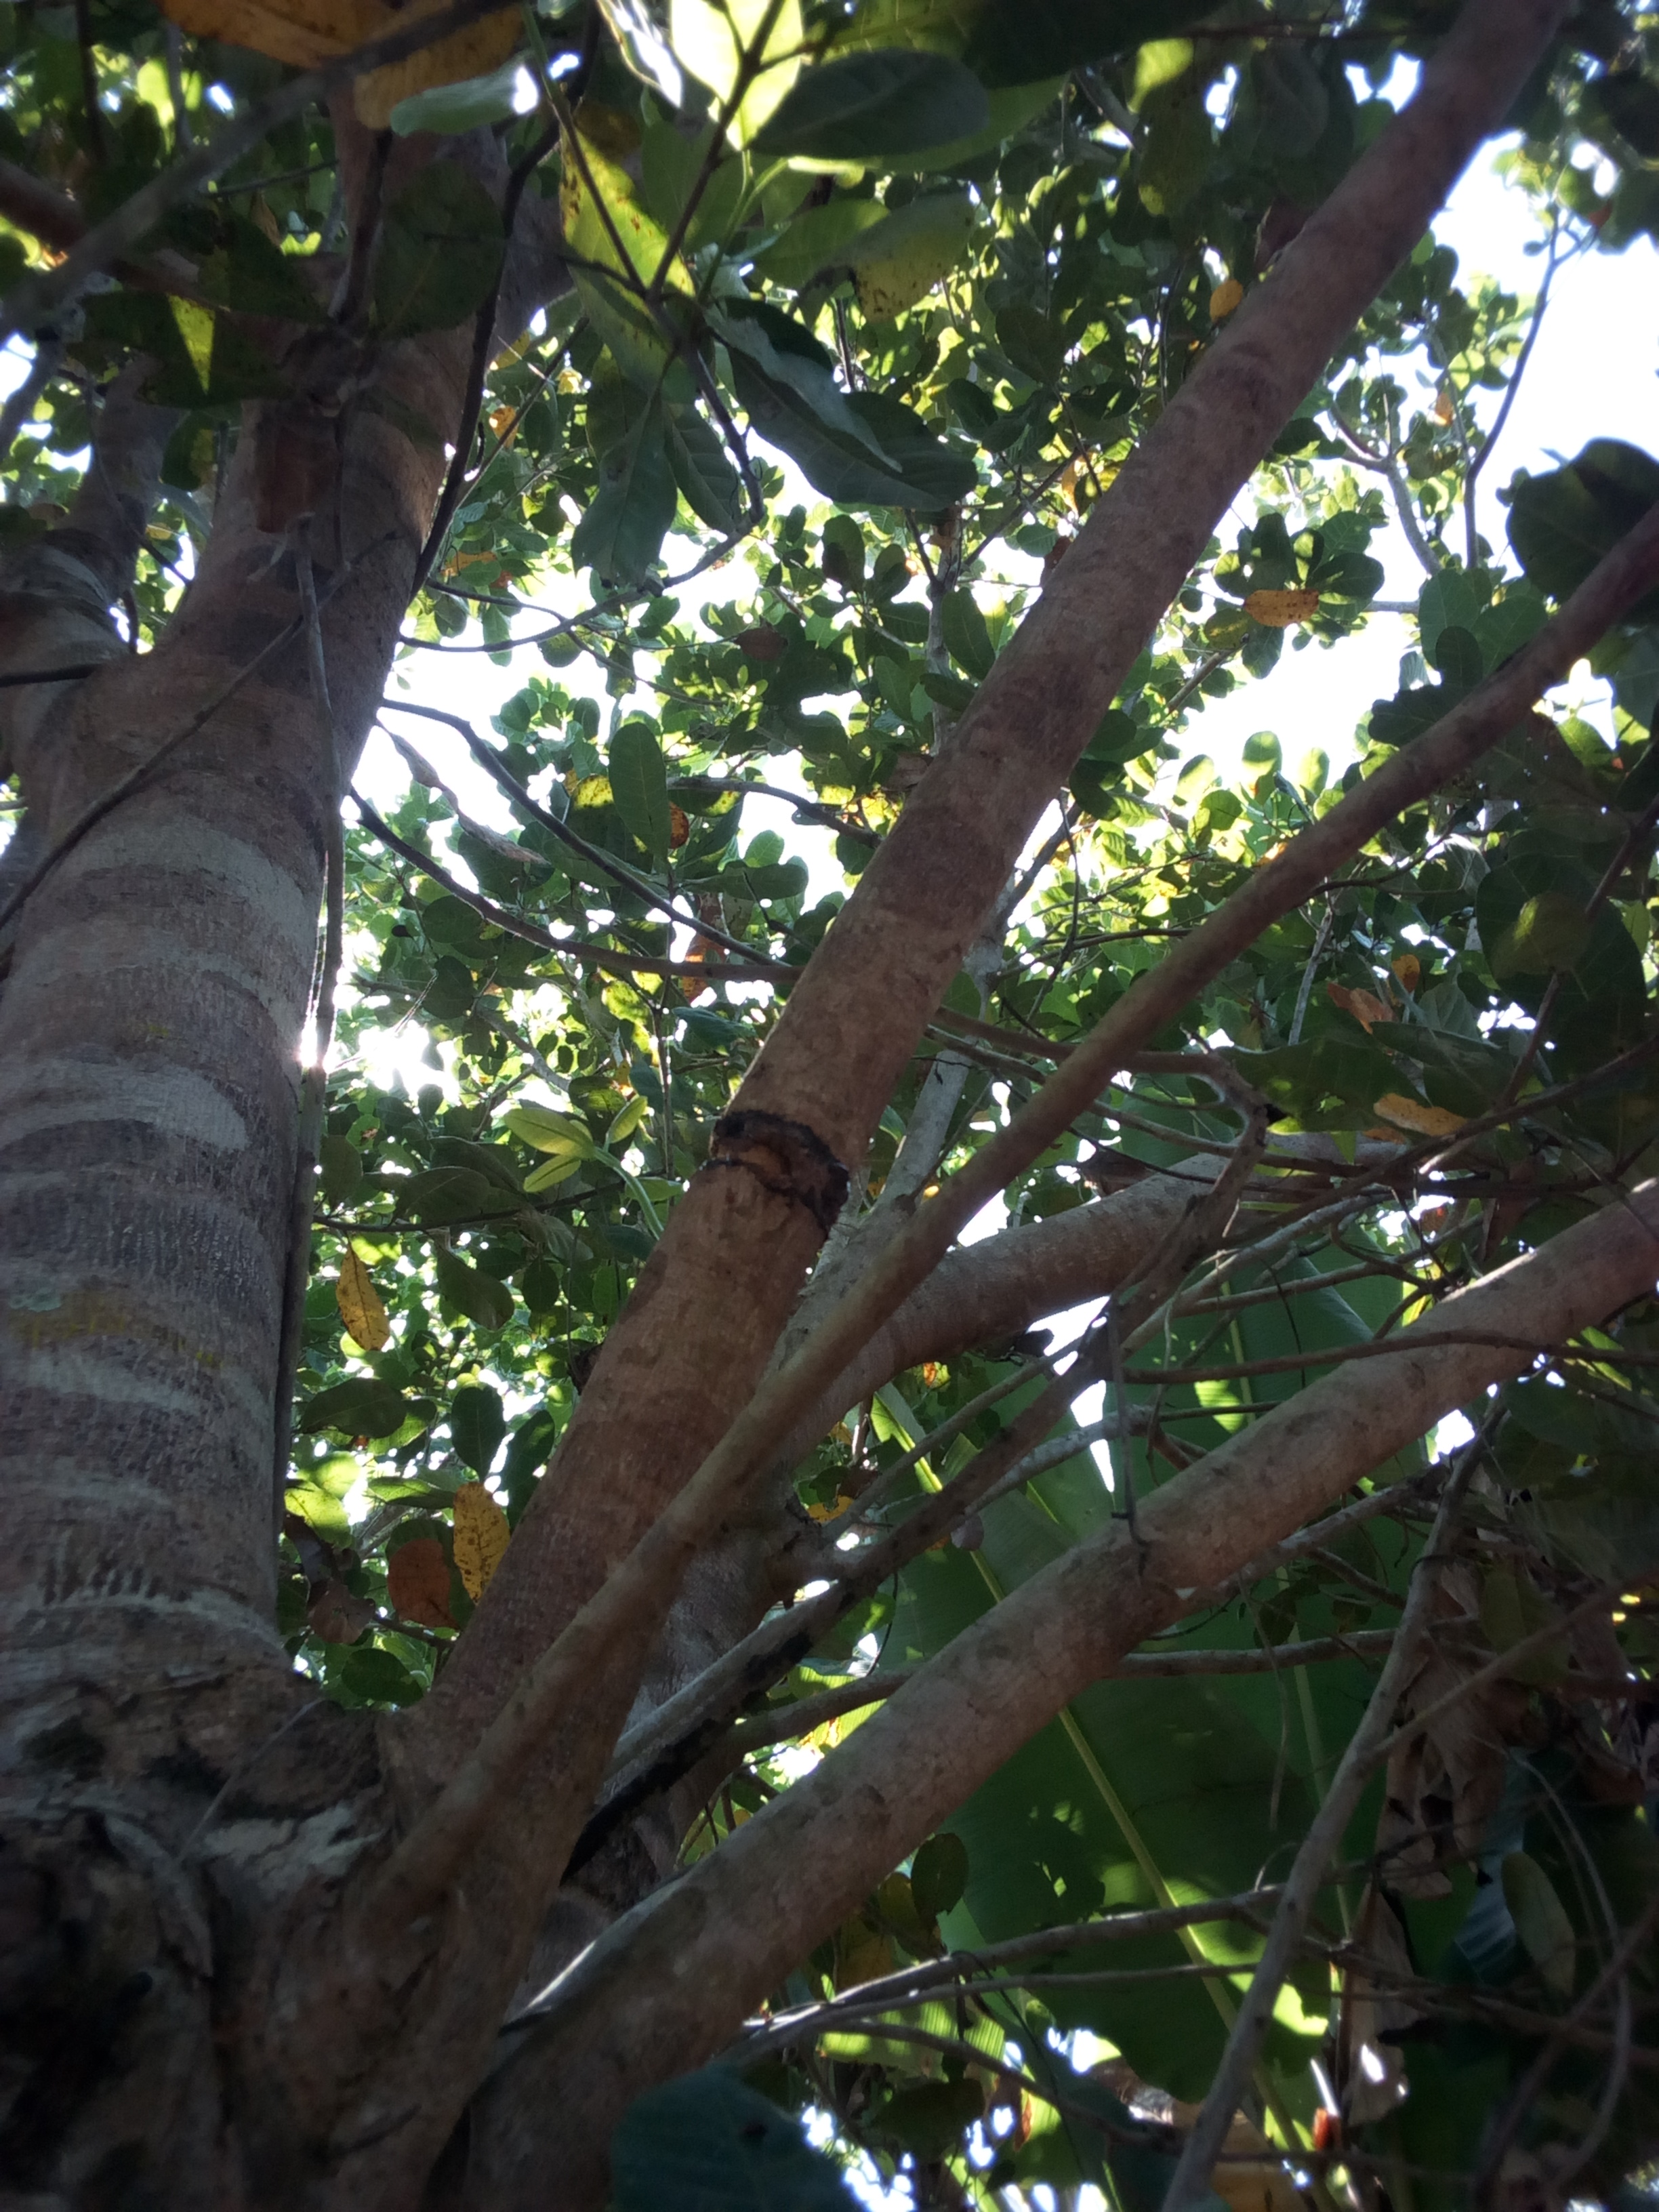Analepse trifasciata: (653, 1085, 887, 1275)
